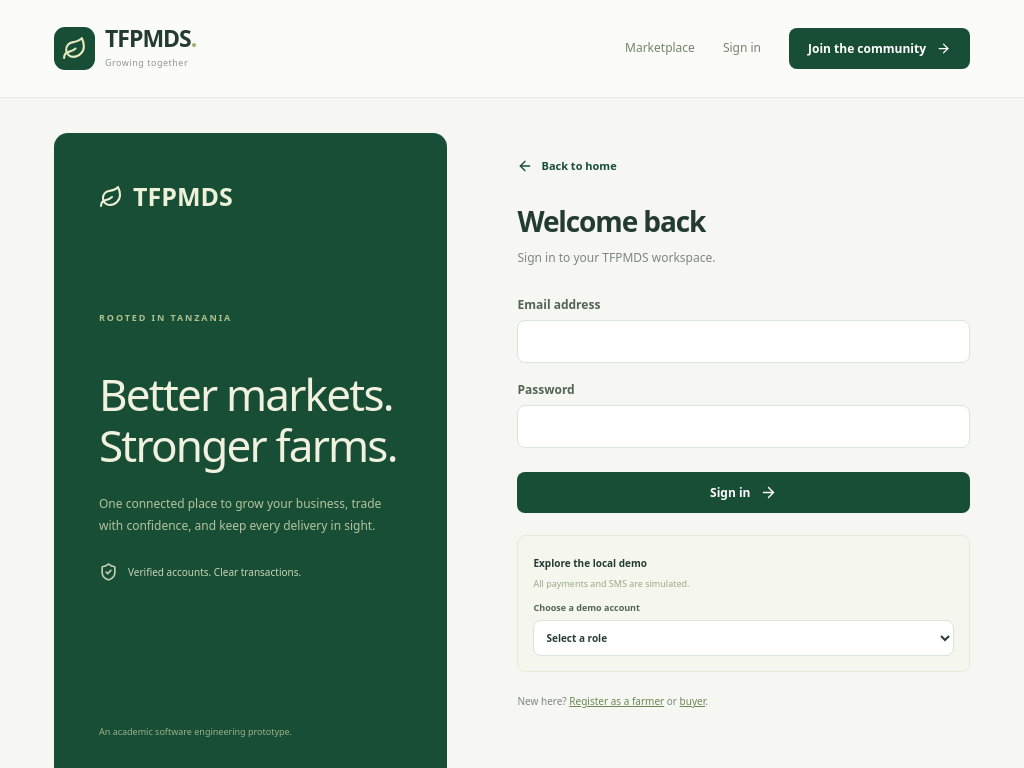
fills the chosen demo credentials without submitting automatically
Select "Buyer" in the dropdown labelled "Choose a demo account" at (744, 638), box [534,620,954,656]
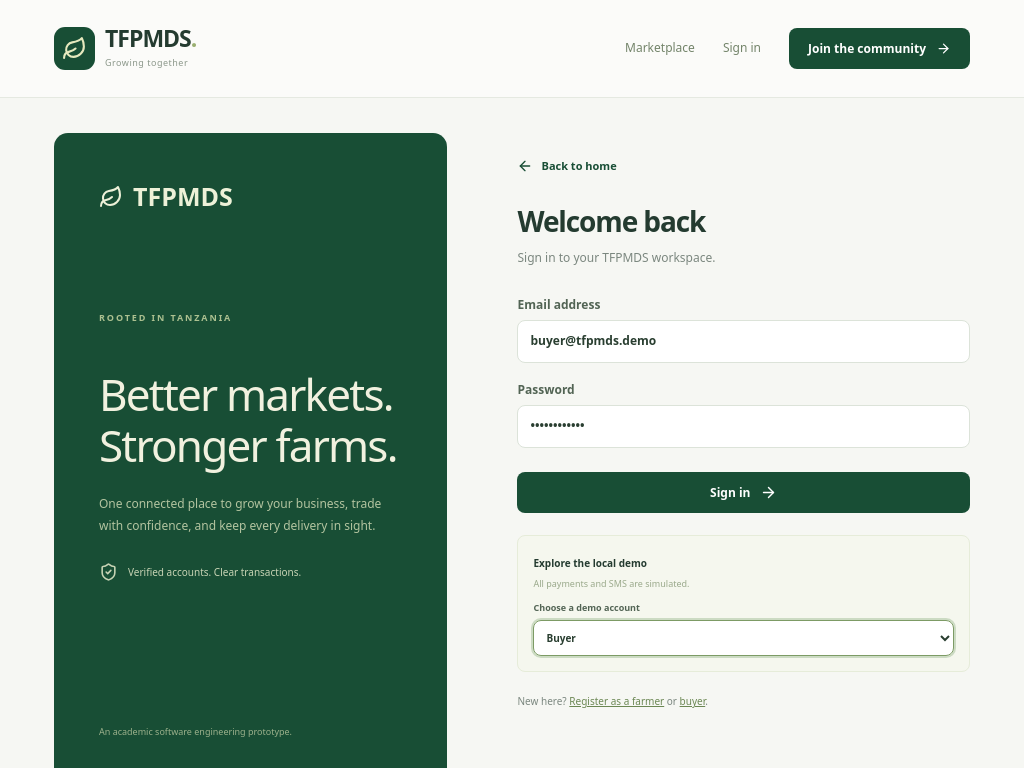
Expected: the field labelled "Email address" holds "buyer@tfpmds.demo", [518,320,970,363]
Expected: the password field labelled "Password" holds "DemoPass123!", [518,405,970,448]
